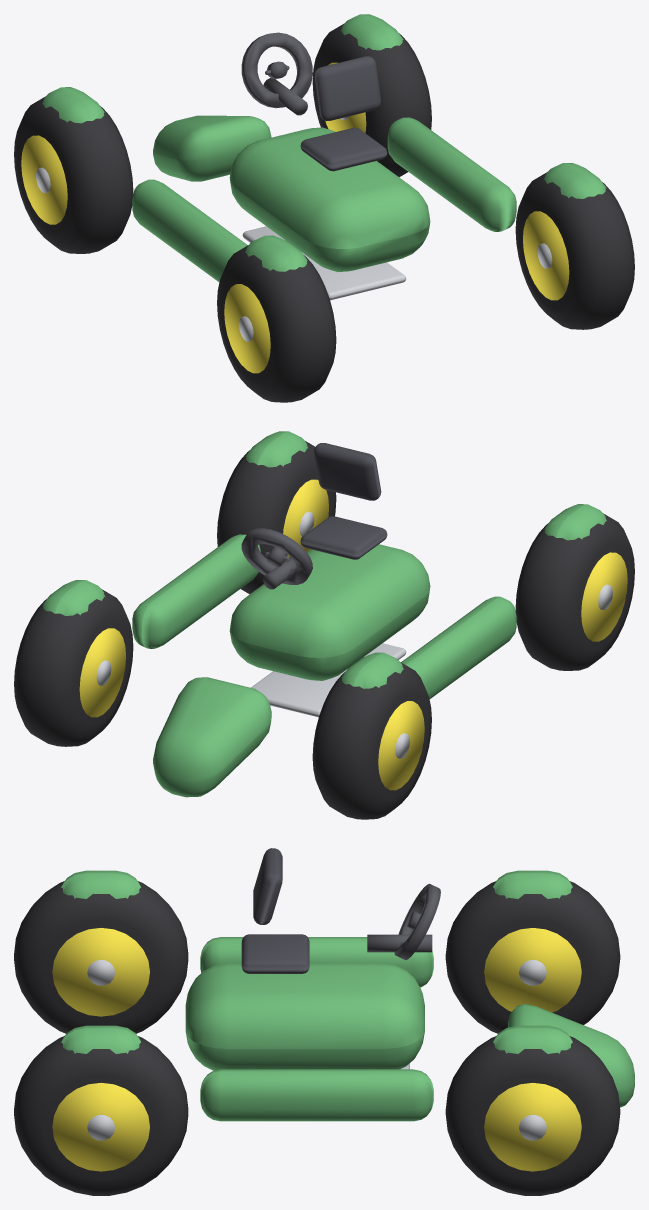
File: farmkart-kart-v2.glb
3 renders of one model, top to bottom at view 1: azimuth 30°, elevation 25°; view 2: azimuth 150°, elevation 25°; view 3: azimuth 270°, elevation 25°, orthographic. The views are drawn at different scales.
Parts seen in each view (by area): view 1: KartBody, WheelRL, WheelRR, WheelFL, WheelFR, SteerWheel; view 2: KartBody, WheelFL, WheelFR, WheelRL, WheelRR, SteerWheel; view 3: KartBody, WheelRR, WheelFR, WheelRL, WheelFL, SteerWheel.
Boxes of the visible parts, x1,y1,x2,y2 form: KartBody: (42,14,606,300); WheelRL: (217,245,336,402); WheelRR: (515,172,634,329); WheelFL: (14,96,133,253); WheelFR: (312,24,431,177); SteerWheel: (241,32,312,108); KartBody: (42,431,606,797); WheelFL: (312,662,431,819); WheelFR: (14,589,133,746); WheelRL: (515,513,634,670); WheelRR: (217,441,336,594); SteerWheel: (241,528,312,584); KartBody: (61,848,634,1121); WheelRR: (14,1036,188,1195); WheelFR: (445,1036,620,1195); WheelRL: (14,881,188,1033); WheelFL: (445,881,620,1033); SteerWheel: (394,883,440,960).
Bounding box in the file's own units: 1.5 × 0.9427 × 2.1.
